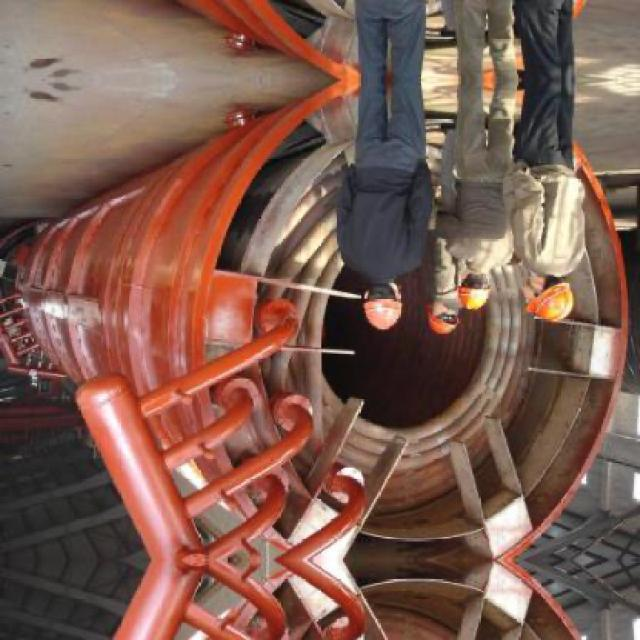con casco: (503, 250, 581, 340), (320, 257, 391, 328), (408, 286, 468, 336), (455, 260, 495, 306)
